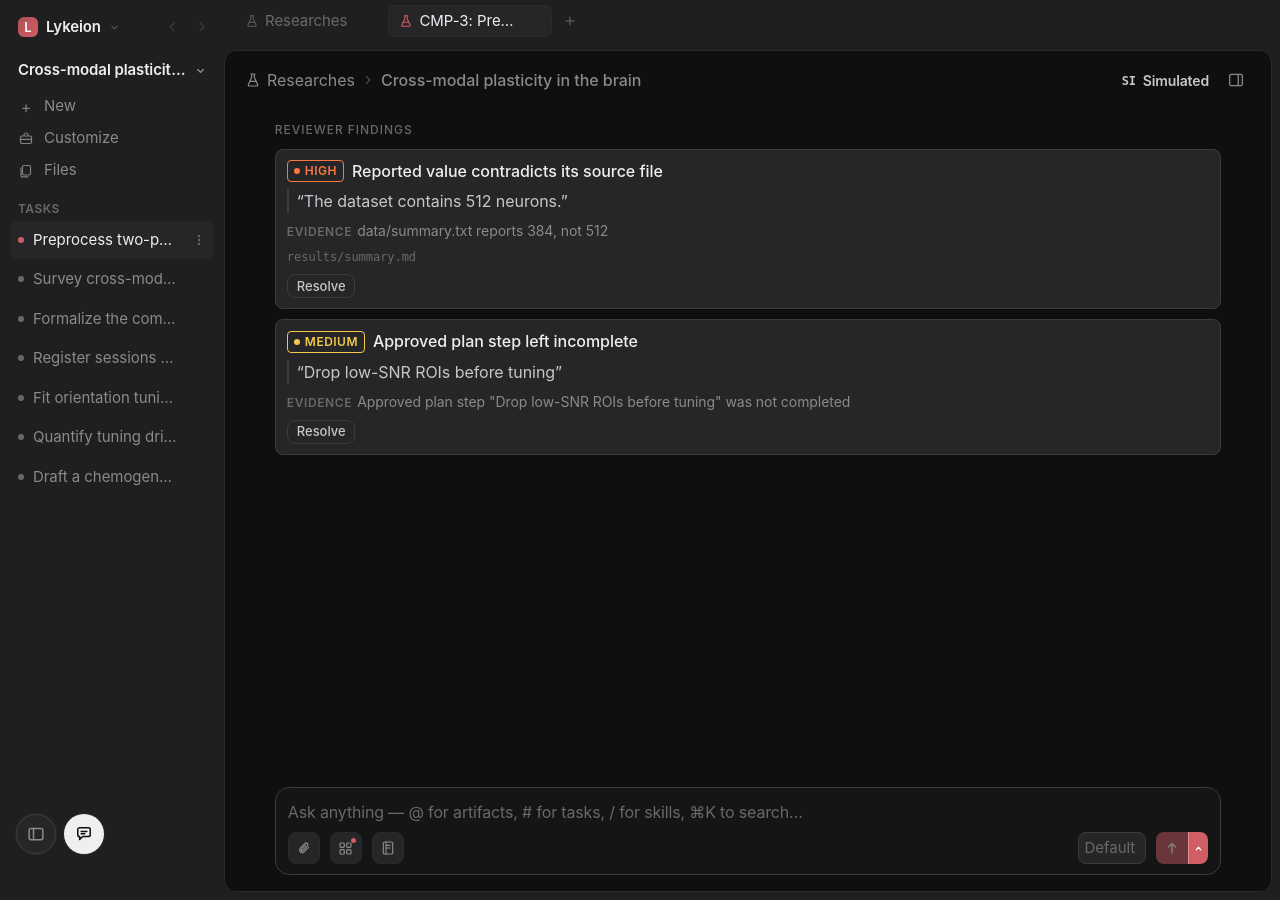
Scenario: Task transcript refresh on landing › keeps a turn that landed no record, since the transcript will never carry it
The image size is (1280, 900).
Type "count the kinases" into the text box named "Message the agent" at (748, 812), box x1=288 y1=800 x2=1208 y2=824
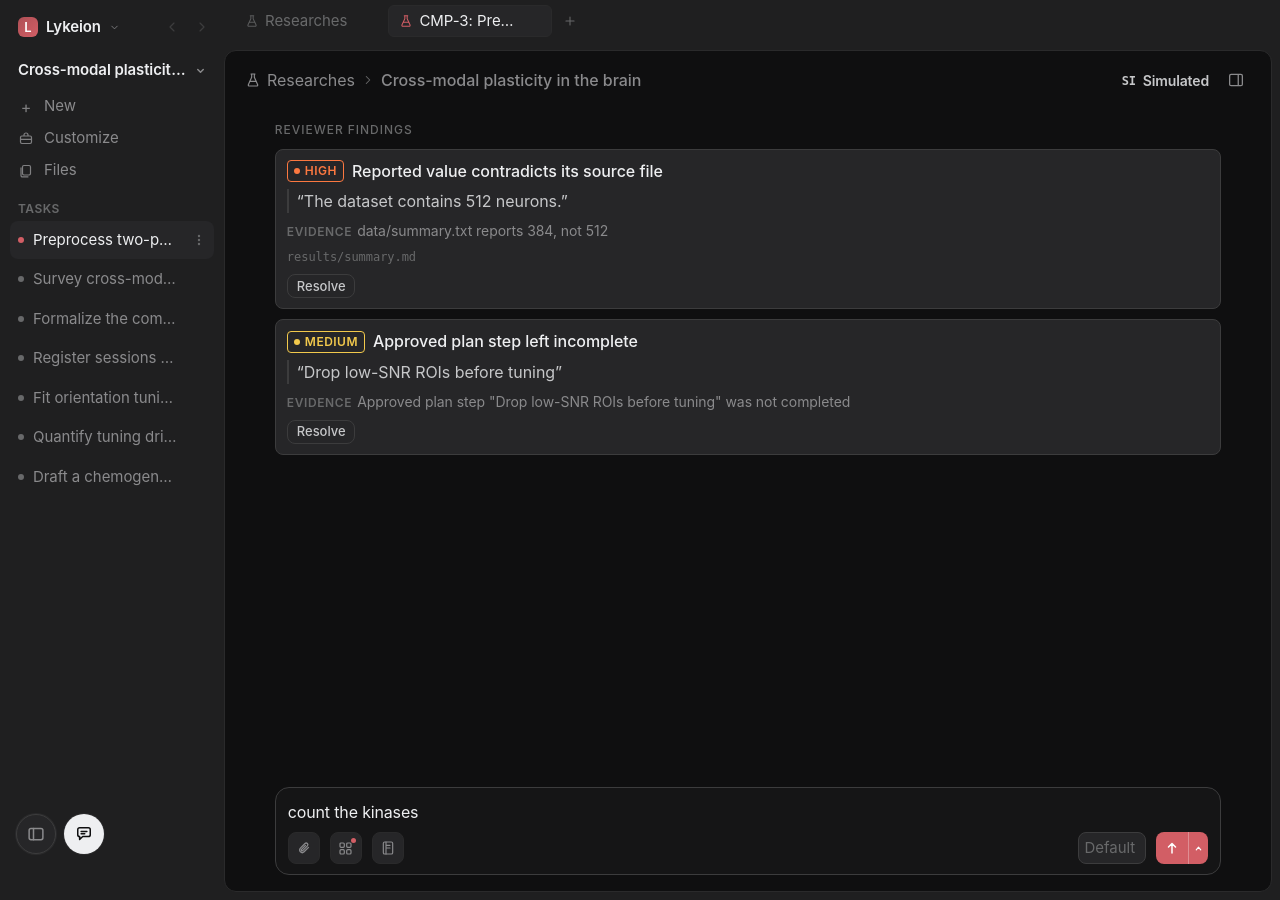
Click the button named "Send" at (1172, 848), box x1=1156 y1=832 x2=1188 y2=864
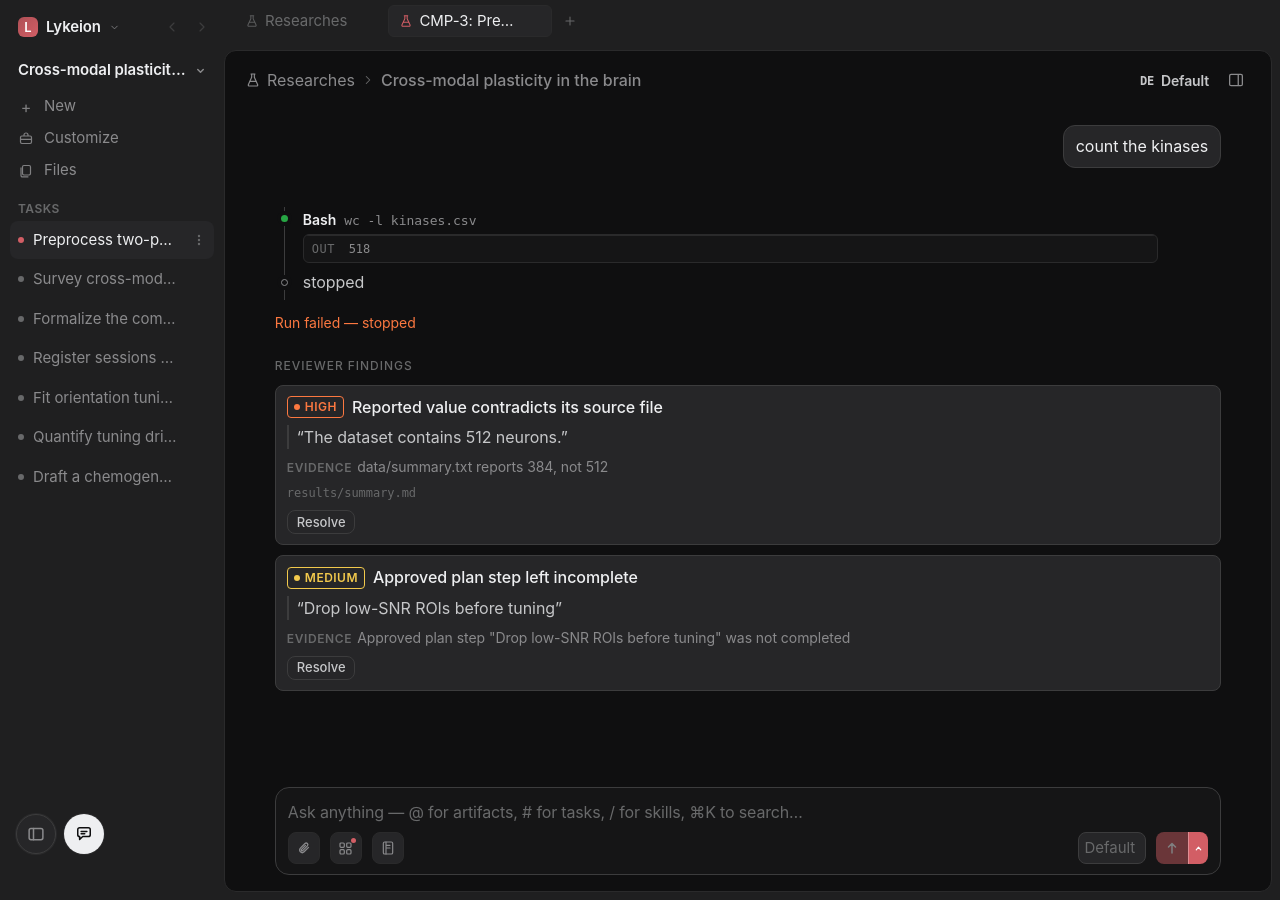
Check: the text "wc -l kinases.csv" is shown once, box x1=344 y1=213 x2=476 y2=228
